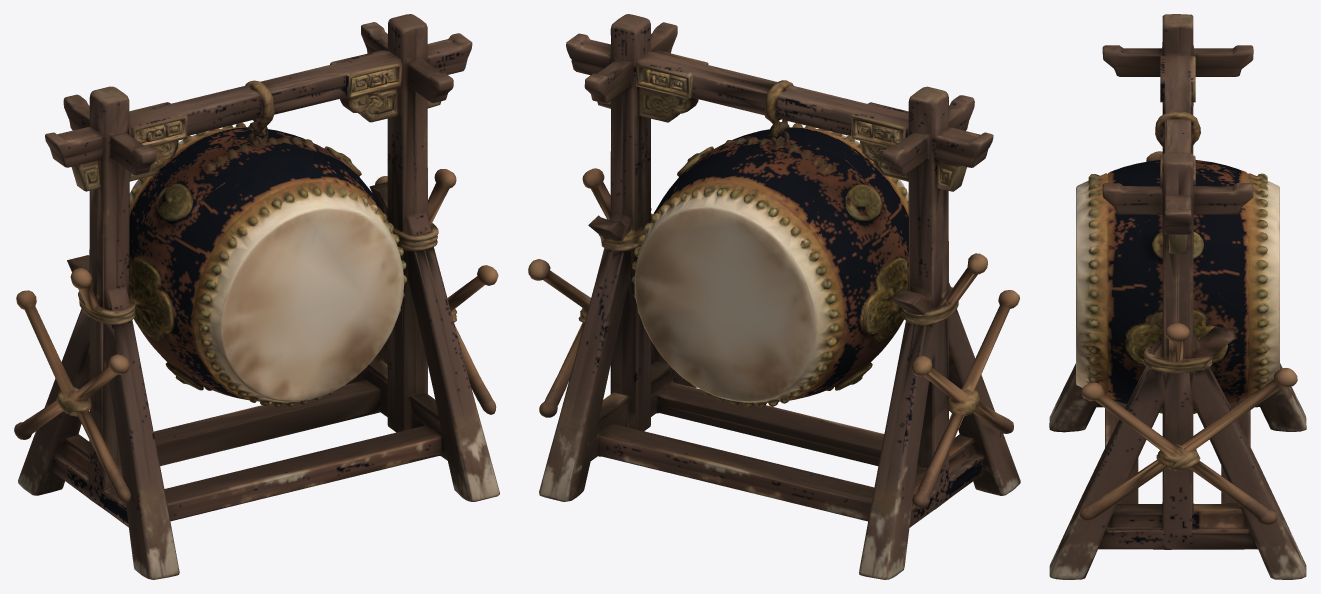
File: war-drum-black-hy3-v1.glb
The picture shows the model from 3 angles, left to right: view 1: azimuth 30°, elevation 25°; view 2: azimuth 150°, elevation 25°; view 3: azimuth 270°, elevation 25°; orthographic projection. The views are drawn at different scales.
Visible parts, largest first — view 1: node_0; view 2: node_0; view 3: node_0.
Part boxes in pixels (x1,y1,x2,y2): node_0: (14, 14, 499, 579); node_0: (528, 14, 1020, 579); node_0: (1049, 14, 1306, 579).
Bounding box in the file's own units: 1.95 × 1.95 × 1.1.
Materials: 1 (1 with a texture image).
